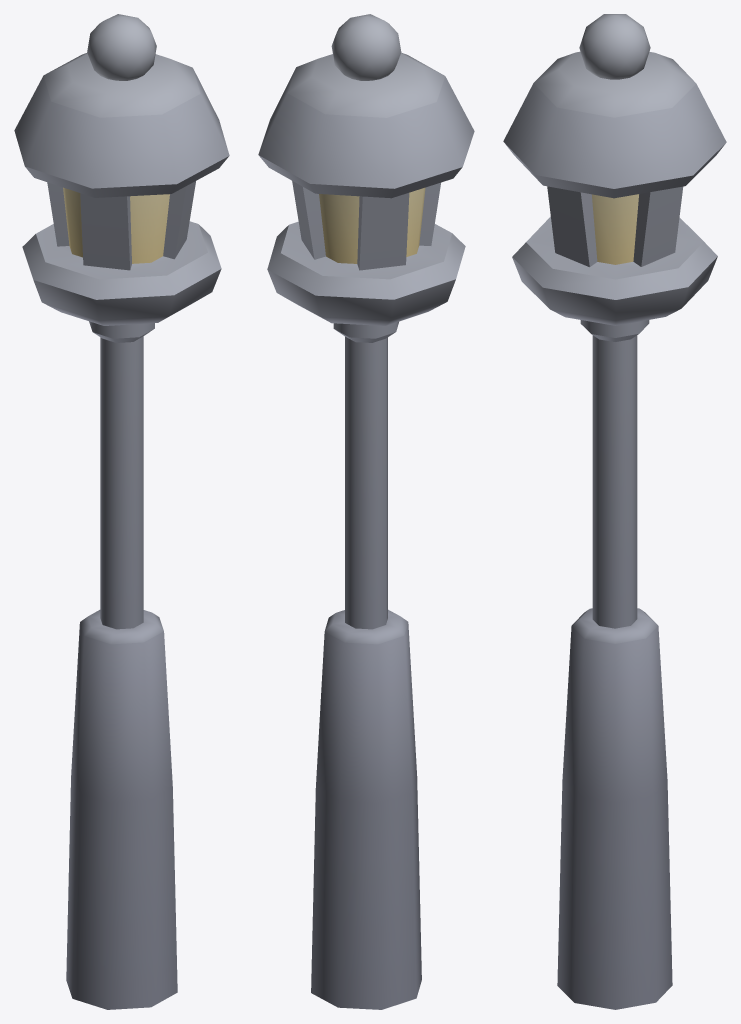
The model's file is street_lantern.gltf.
3 views of the same model, side by side, from view 1: azimuth 30°, elevation 25°; view 2: azimuth 150°, elevation 25°; view 3: azimuth 270°, elevation 25° (orthographic).
Parts seen in each view (by area): view 1: street_lantern; view 2: street_lantern; view 3: street_lantern.
Boxes of the visible parts, left/top/right/bottom form: street_lantern: left=14, top=14, right=229, bottom=1009; street_lantern: left=258, top=14, right=474, bottom=1009; street_lantern: left=503, top=14, right=726, bottom=1009.
Size of the model in its own units: 0.9398 by 4.5 by 0.9398.
1 material, 1 textured.
